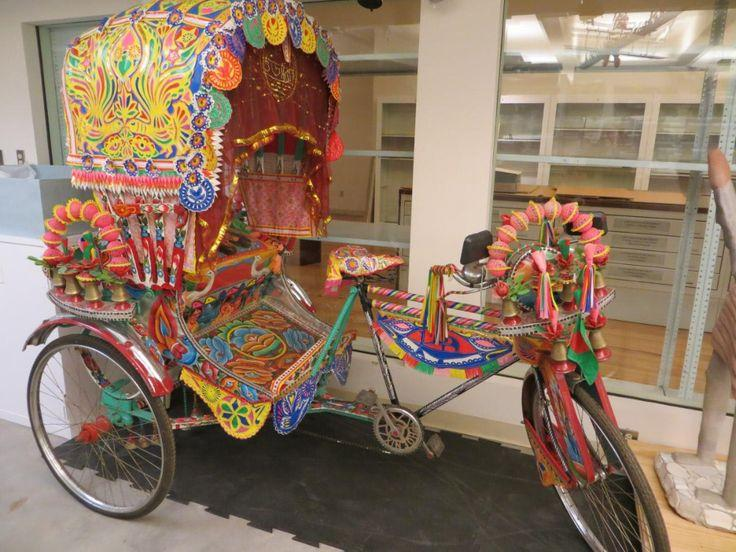Rickshaw: (27, 0, 668, 550)
